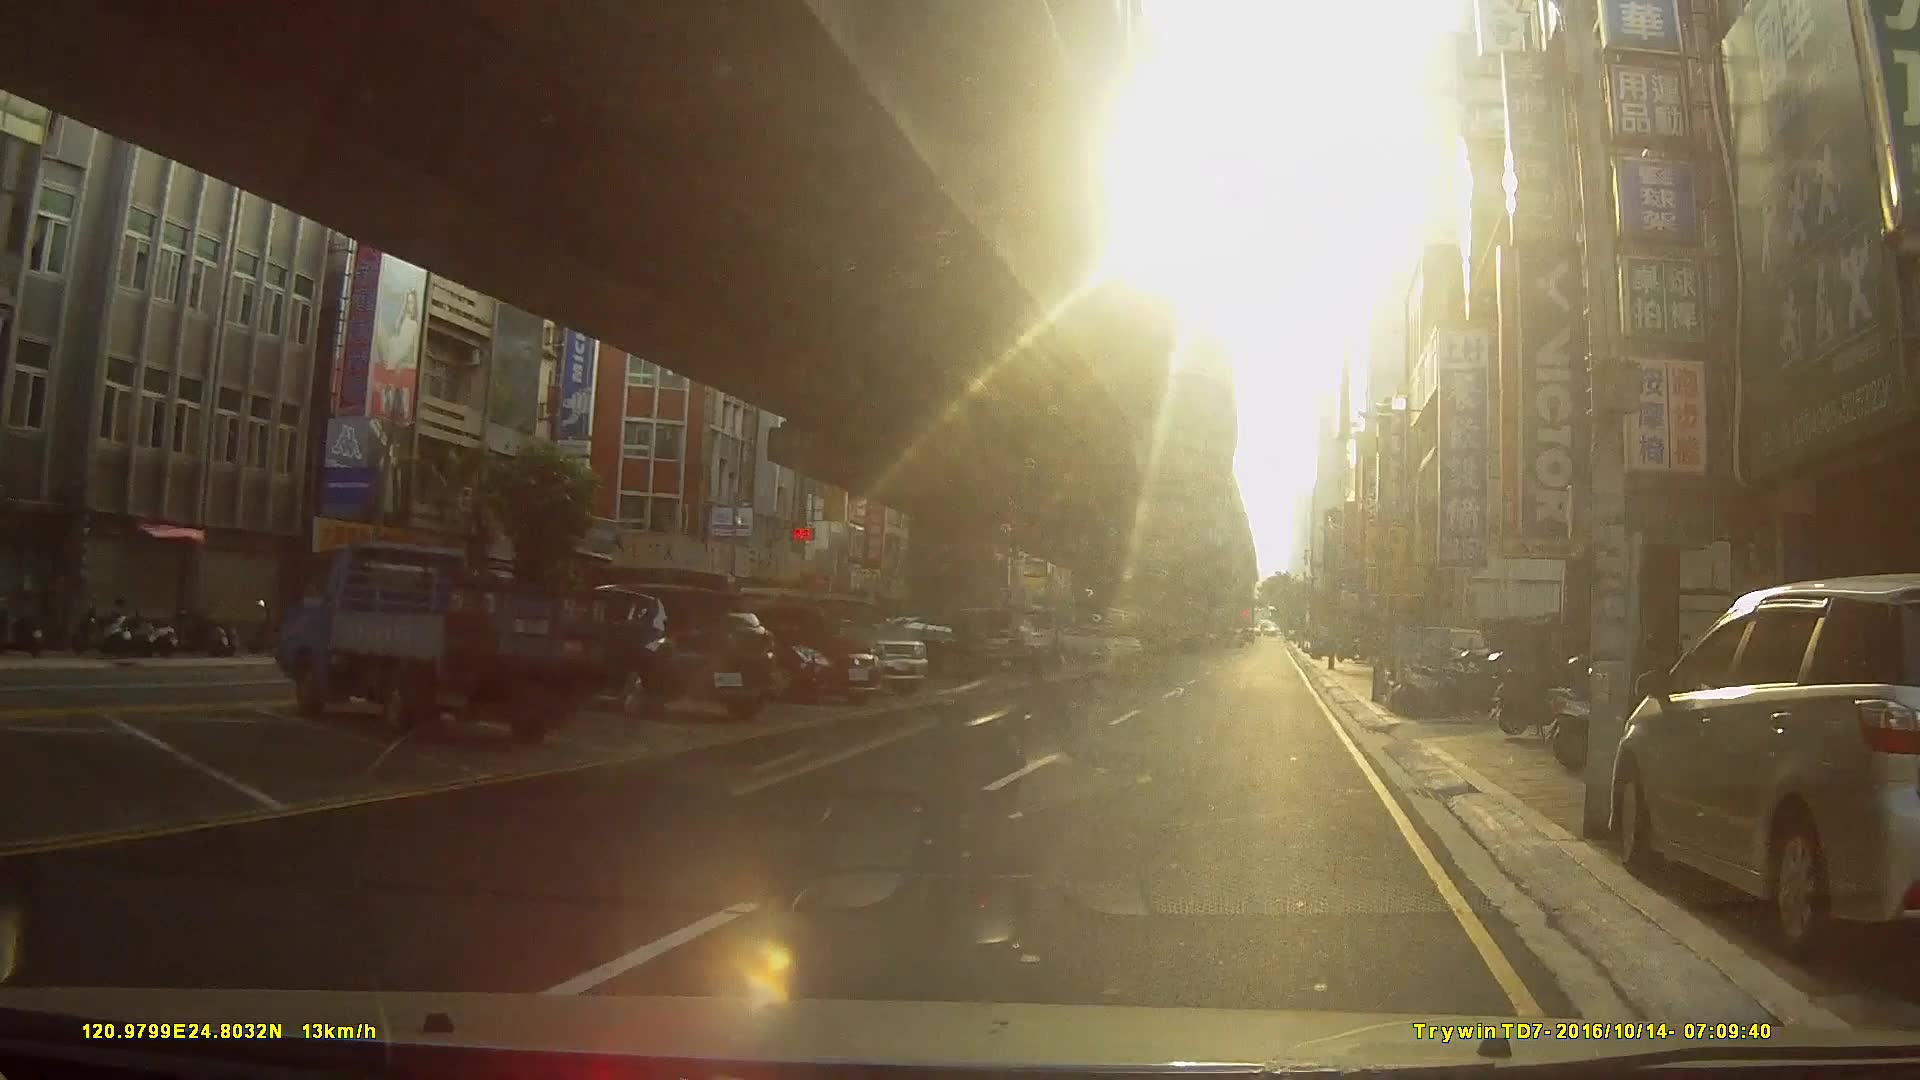vehicle: (1604, 571, 1920, 959), (274, 541, 618, 745), (554, 582, 775, 723), (698, 597, 880, 702), (858, 617, 1014, 680)
